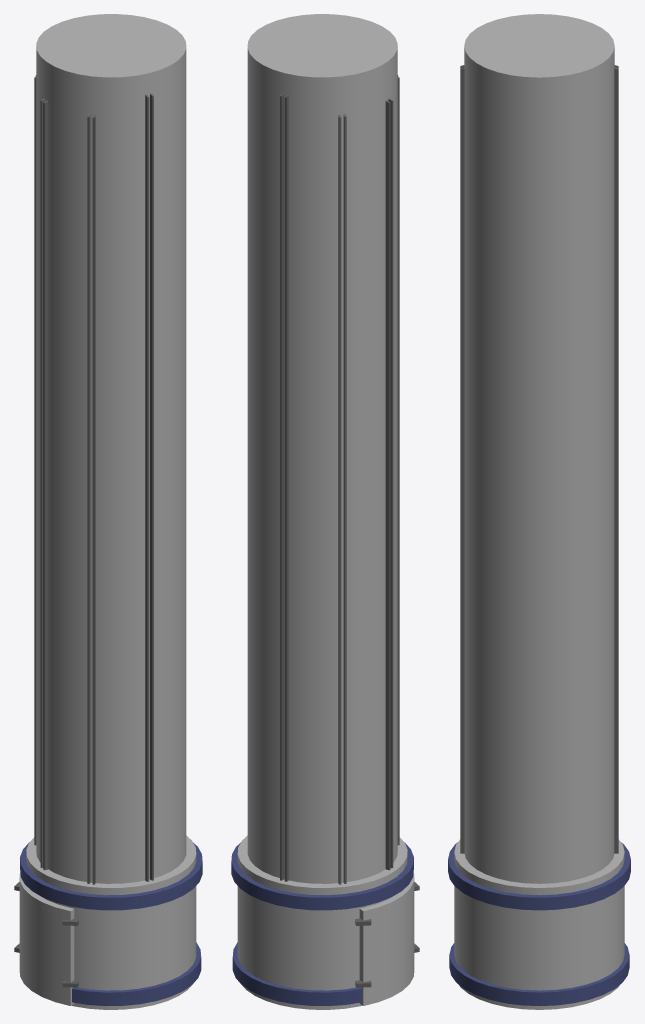
Rendered from Elevator HC.fbx.
3 renders of one model, left to right at view 1: azimuth 30°, elevation 25°; view 2: azimuth 150°, elevation 25°; view 3: azimuth 270°, elevation 25°, orthographic.
Visible parts, largest first — view 1: PM3D_Cylinder3D1; view 2: PM3D_Cylinder3D1; view 3: PM3D_Cylinder3D1.
Boxes of the visible parts, x1,y1,x2,y2 form: PM3D_Cylinder3D1: (14, 14, 202, 1009); PM3D_Cylinder3D1: (231, 14, 419, 1009); PM3D_Cylinder3D1: (448, 14, 630, 1009).
Size of the model in its own units: 1507 by 8396 by 1499.
